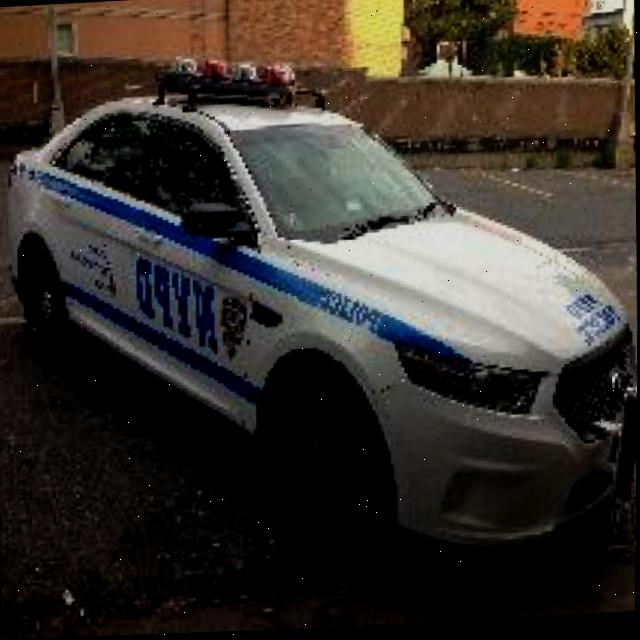emergency: (0, 32, 640, 593)
